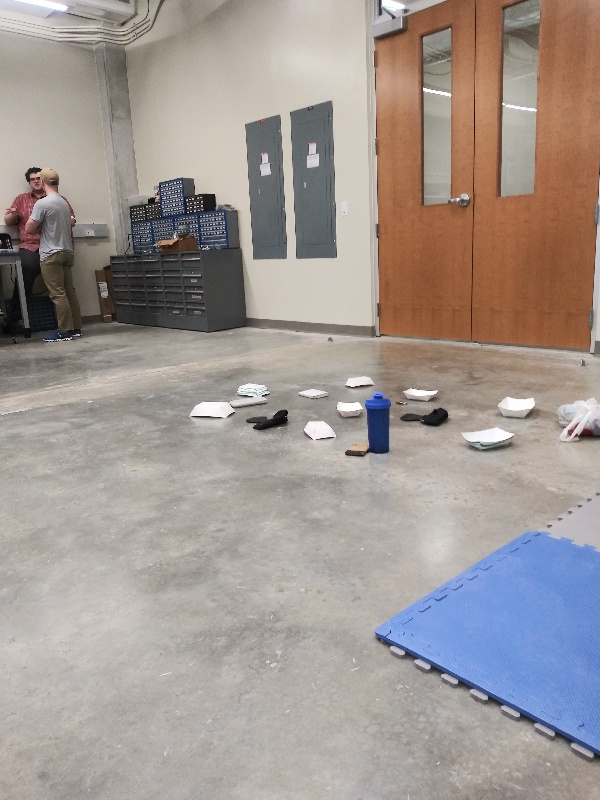plate: (452, 423, 520, 453), (493, 391, 542, 420), (186, 398, 236, 424), (300, 416, 338, 445), (332, 397, 364, 422), (400, 384, 442, 400), (234, 380, 273, 397), (341, 373, 378, 389)
